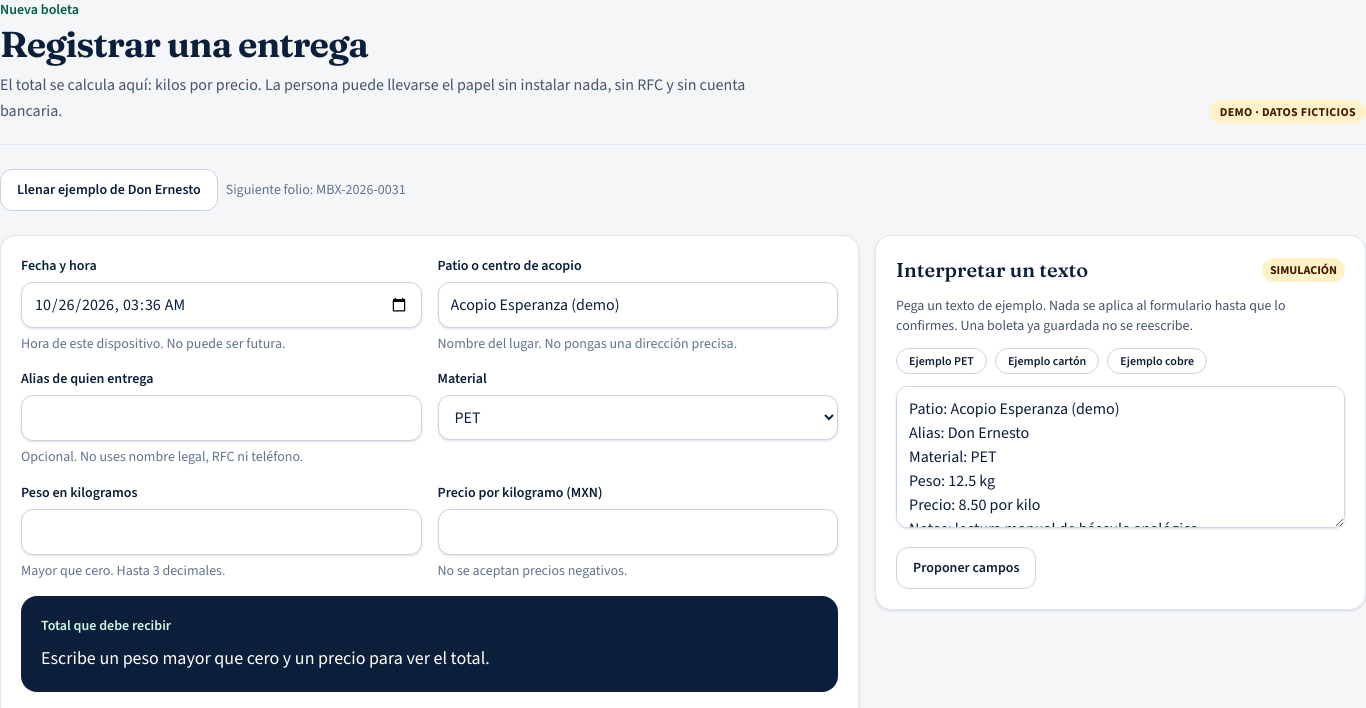
Test case: formulario de boleta › muestra SIMULACIÓN cuando el servidor no devuelve JSON
Click the button "Proponer campos": (966, 568) [896,547,1036,589]
(page scrolled)
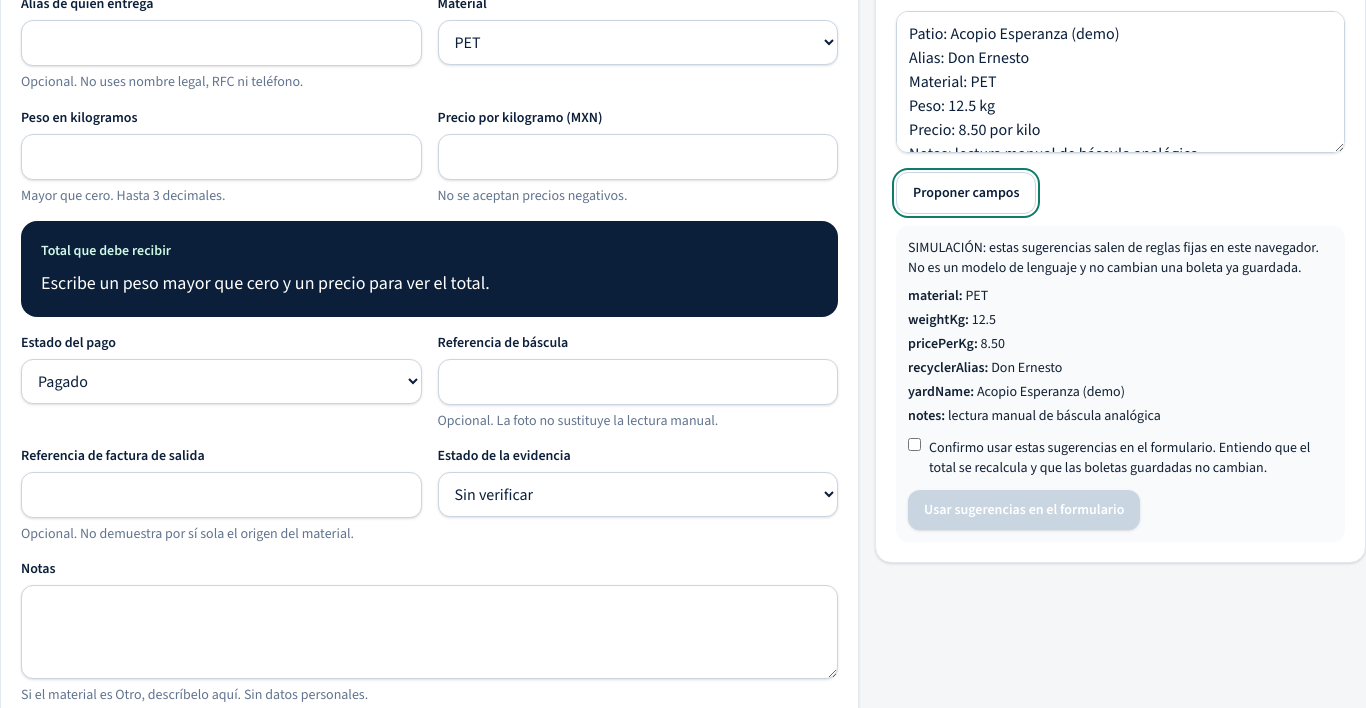
Now the element with test id "interpret-result" shows "SIMULACIÓN", box [908,238,1319,277]
Now the element with test id "interpret-result" shows "PET", box [965,286,988,305]
